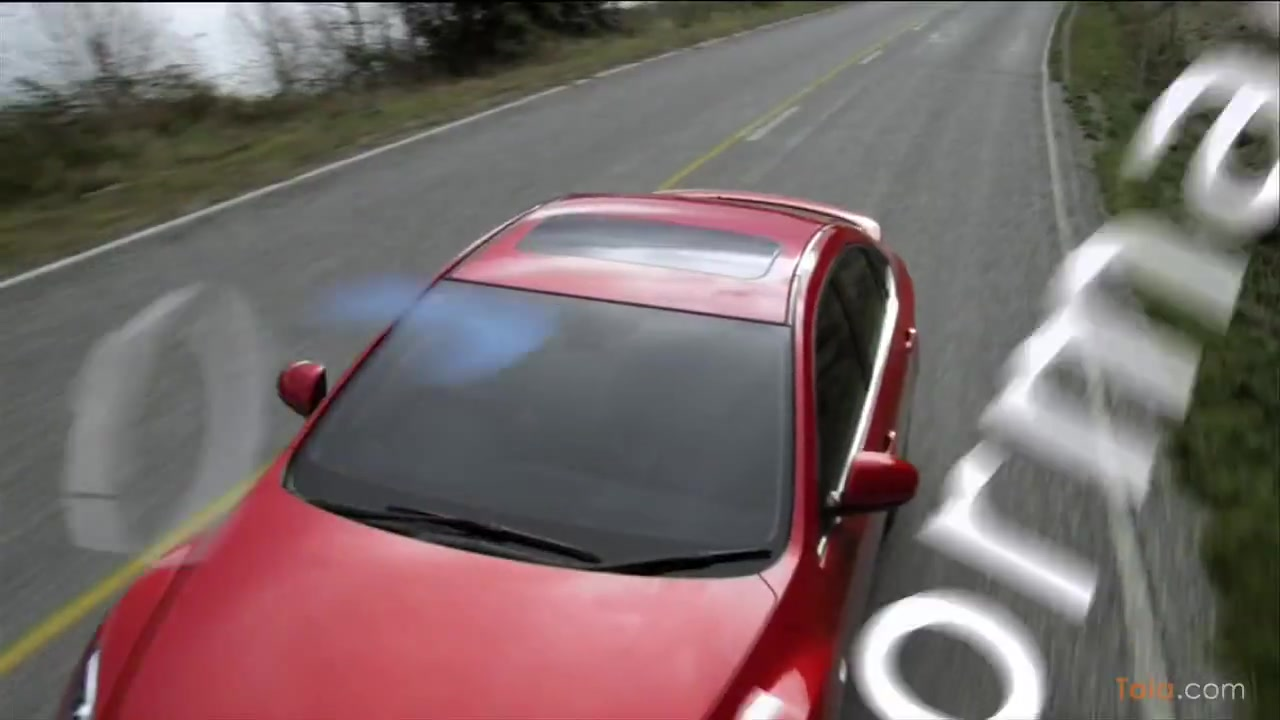car: (58, 189, 921, 720)
